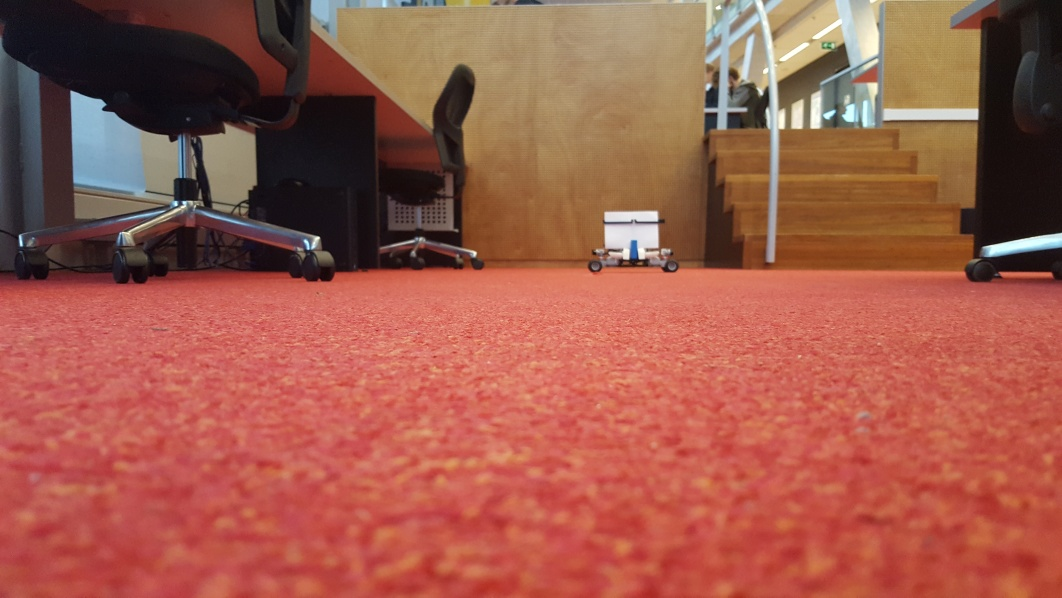car: (584, 207, 682, 276)
